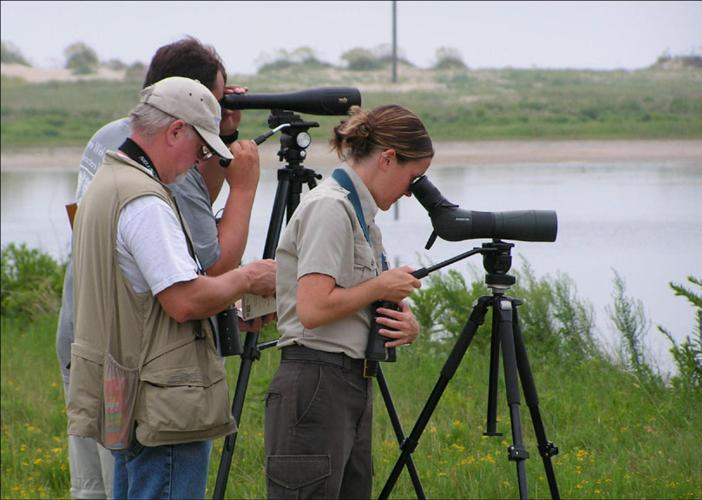person: (265, 105, 434, 500)
